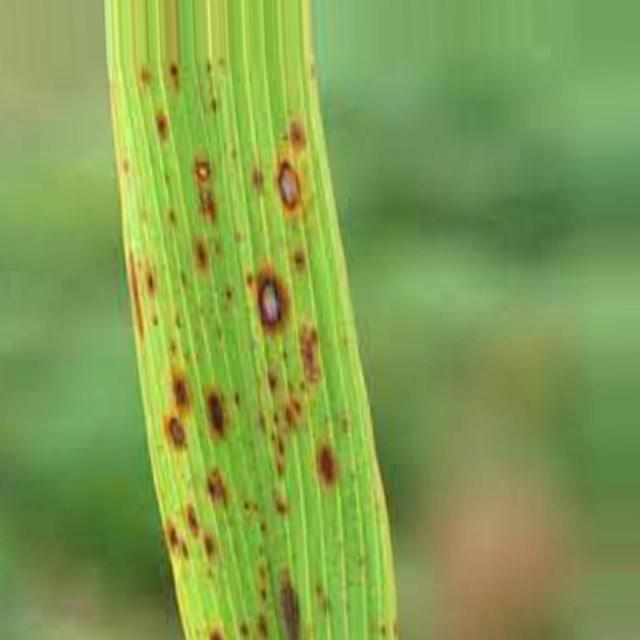Brown_Spot: (258, 270, 286, 330), (195, 160, 215, 221), (280, 582, 300, 640), (164, 520, 189, 561), (279, 162, 300, 208), (318, 445, 338, 486), (208, 394, 224, 434), (172, 375, 189, 411), (208, 471, 226, 504), (168, 416, 185, 446), (290, 122, 305, 147), (186, 506, 199, 534), (195, 241, 208, 268), (156, 115, 169, 139), (204, 534, 216, 558), (266, 371, 280, 391), (294, 249, 306, 270), (258, 615, 268, 640), (239, 620, 251, 640), (169, 61, 179, 85), (146, 270, 155, 296), (210, 628, 225, 640)
